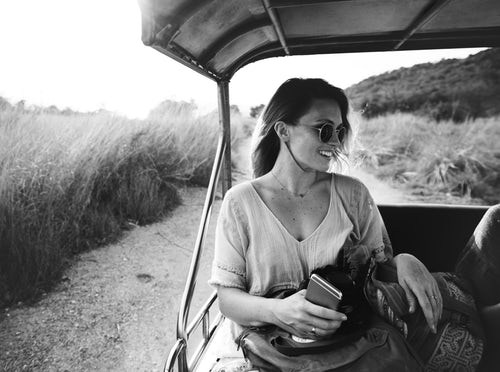phone: (299, 273, 345, 338)
